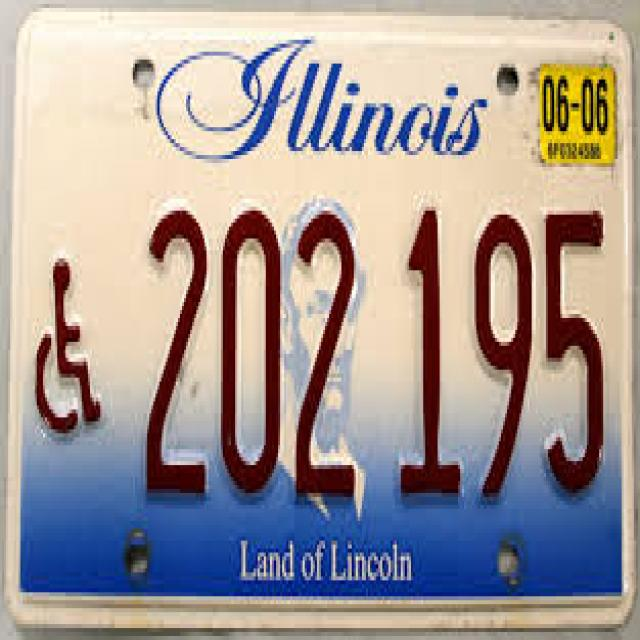car-handicap-placard: (34, 254, 103, 438)
